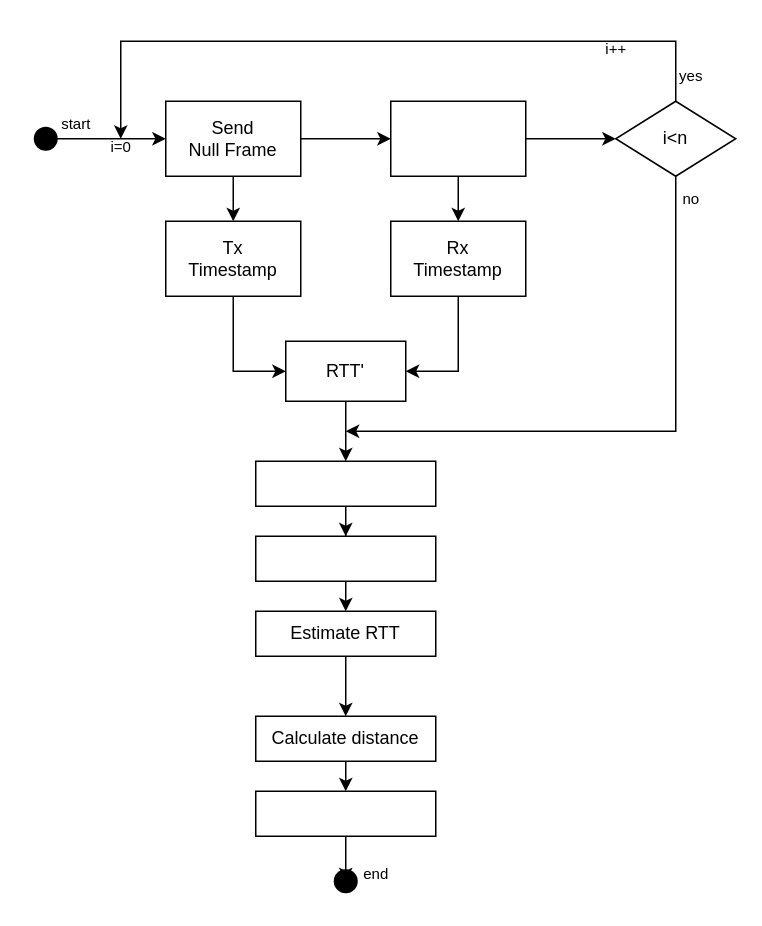
Image size: 762x926. Some labels were removed from this diagram. Each missing label, with the centre of its shape:
"Estimated location" goes at pixel 345 813.
"Filter RTT'" goes at pixel 345 483.
"Processing RTT'" goes at pixel 345 558.
"Sniff Ack Frame" goes at pixel 457 138.
